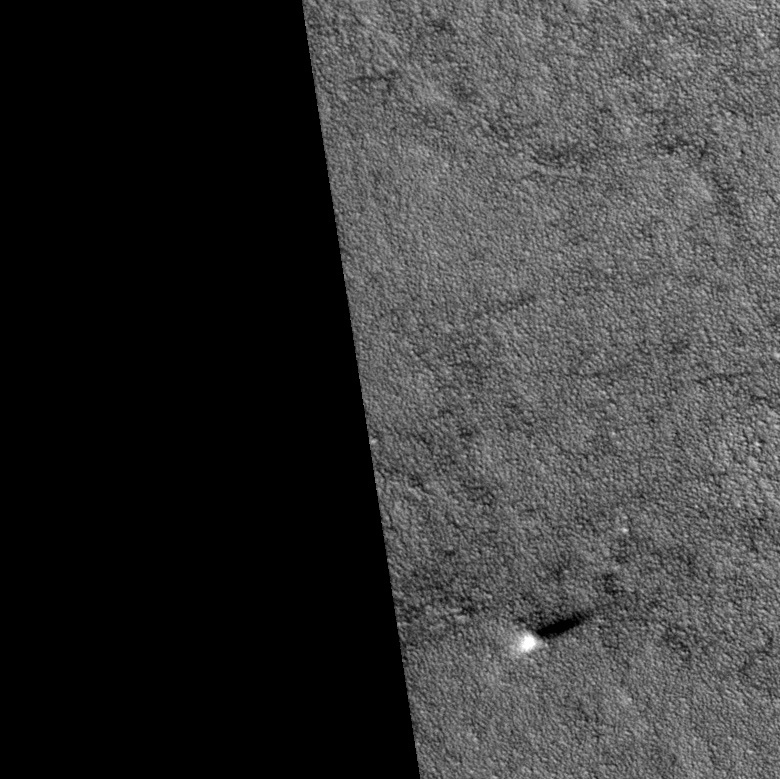dust_devil: (517, 606, 600, 654)
